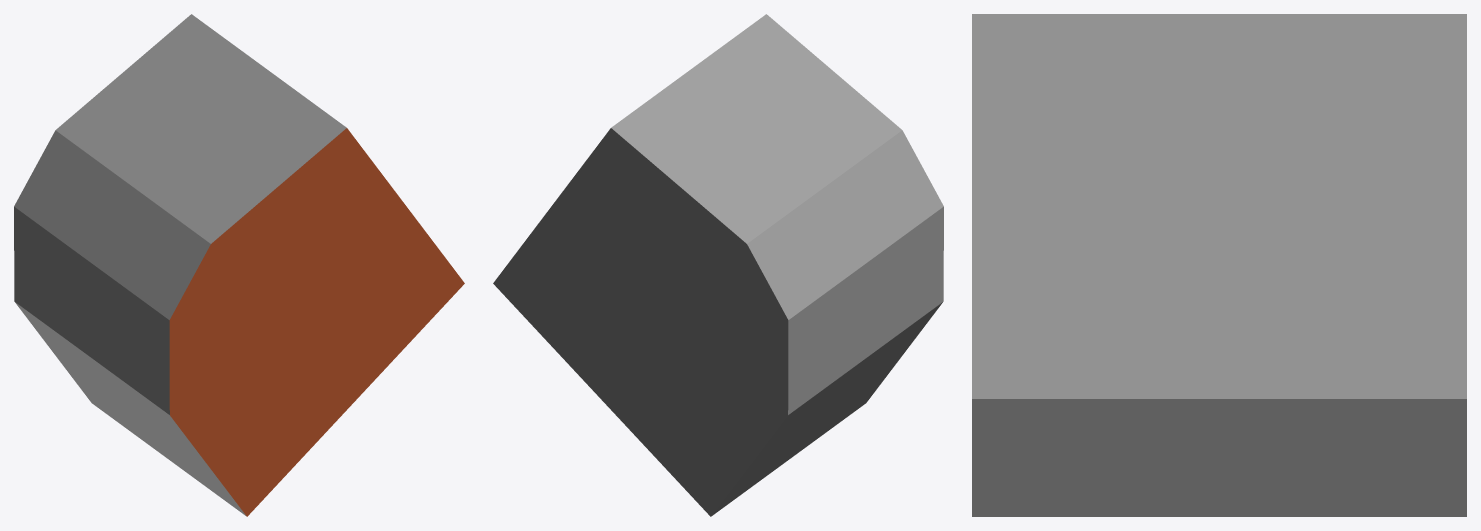
The model's file is construction_5123_assumed_A_Casa_h6m.obj.
The picture shows the model from 3 angles, left to right: view 1: azimuth 30°, elevation 25°; view 2: azimuth 150°, elevation 25°; view 3: azimuth 270°, elevation 25°; orthographic projection. The views are drawn at different scales.
Parts seen in each view (by area): view 1: construction_5123_assumed_A_Casa; view 2: construction_5123_assumed_A_Casa; view 3: construction_5123_assumed_A_Casa.
Boxes of the visible parts, x1,y1,x2,y2 form: construction_5123_assumed_A_Casa: (14, 14, 464, 516); construction_5123_assumed_A_Casa: (493, 14, 943, 516); construction_5123_assumed_A_Casa: (972, 14, 1466, 516).
Bounding box in the file's own units: 6.58 × 7.76 × 6.
